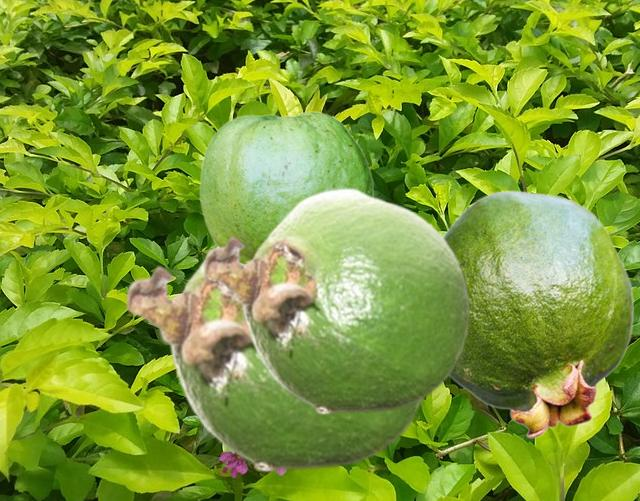guava: (124, 258, 425, 471), (202, 186, 471, 414), (444, 190, 633, 438), (199, 111, 373, 262)
